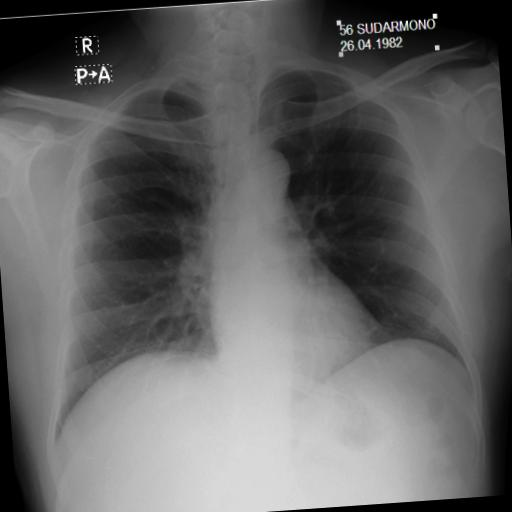normal: (15, 20, 492, 452)
